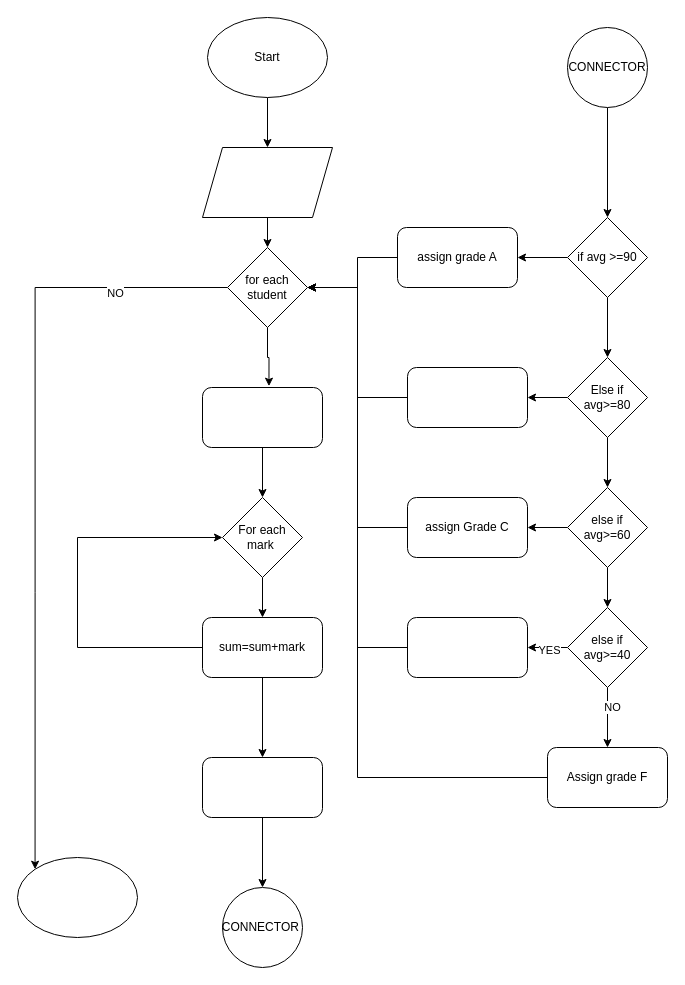
This 685x985 diagram has some shape labels left out. Here are the shapes that lost their labels. From the top down, the centre of each, then its label:
At (267,182): "Read Student_array".
At (262,417): "sum=0".
At (467,397): "assign grade B".
At (467,647): "assign grade D".
At (262,787): "avg=sum/no of marks".
At (77,897): "Stop".
